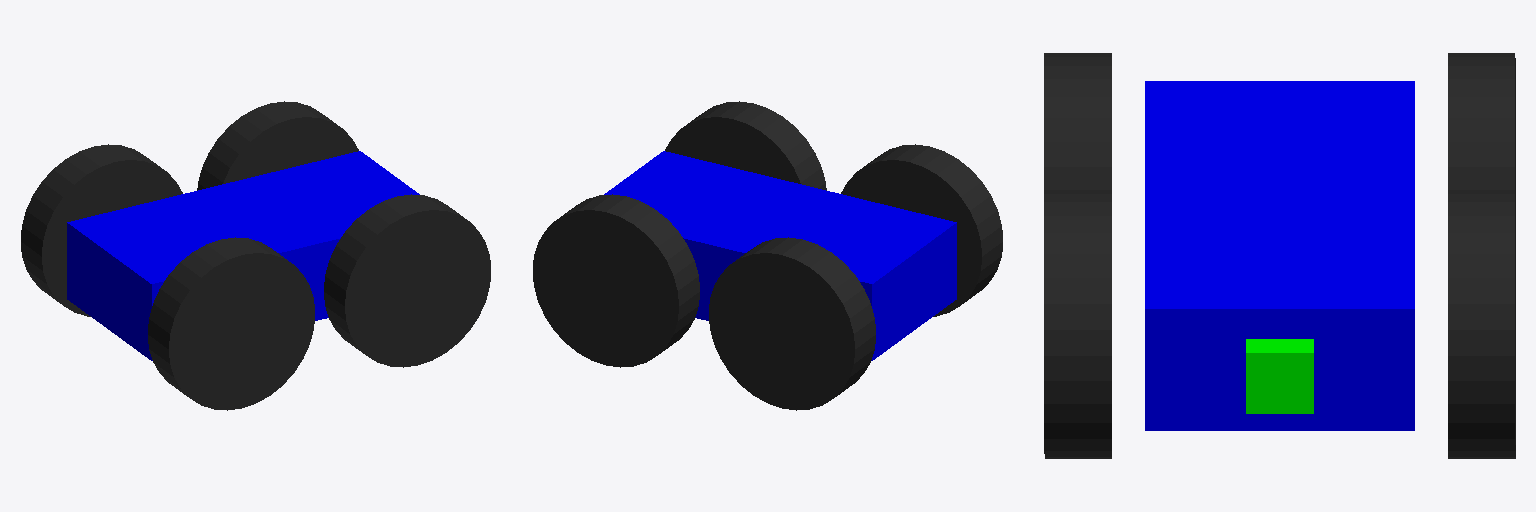
URDF robot description (bocbot):
<?xml version="1.0" ?>
<!-- =================================================================================== -->
<!-- |    This document was autogenerated by xacro from src/robot_gazebo/xacro/bocbot.xacro | -->
<!-- |    EDITING THIS FILE BY HAND IS NOT RECOMMENDED                                 | -->
<!-- =================================================================================== -->
<robot name="bocbot">
  <!-- ****************************************************** diffbot Robot ************************************************************  -->
  <!-- [author]                                                                                                                  -->
  <!-- March 2022                                                                                                                         -->
  <!-- *********************************************************************************************************************************  -->
  <!-- ****************************************************** Parameters ***************************************************************  -->
  <!-- ****************************************************** Includes *****************************************************************  -->
  <material name="red">
    <color rgba="1.0 0.0 0.0 1.0"/>
  </material>
  <material name="green">
    <color rgba="0.0 1.0 0.0 1.0"/>
  </material>
  <material name="blue">
    <color rgba="0.0 0.0 1.0 1.0"/>
  </material>
  <material name="black">
    <color rgba="0.3 0.3 0.3 1.0"/>
  </material>
  <material name="white">
    <color rgba="1.0 1.0 1.0 1.0"/>
  </material>
  <material name="grey">
    <color rgba="0.2 0.2 0.2 1.0"/>
  </material>
  <material name="orange">
    <color rgba="1.0 0.4235294117647059 0.0392156862745098 1.0"/>
  </material>
  <material name="brown">
    <color rgba="0.8705882352941177 0.8117647058823529 0.7647058823529411 1.0"/>
  </material>
  <material name="yellow">
    <color rgba="1.0 1.0 0.0 1.0"/>
  </material>
  <gazebo reference="chassis">
    <material>Gazebo/Blue</material>
  </gazebo>
  <gazebo reference="front_left_wheel">
    <material>Gazebo/Black</material>
  </gazebo>
  <gazebo reference="back_left_wheel">
    <material>Gazebo/Black</material>
  </gazebo>
  <gazebo reference="front_right_wheel">
    <material>Gazebo/Black</material>
  </gazebo>
  <gazebo reference="back_right_wheel">
    <material>Gazebo/Black</material>
  </gazebo>
  <gazebo reference="camera">
    <material>Gazebo/Red</material>
  </gazebo>
  <gazebo reference="hokuyo">
    <material>Gazebo/Black</material>
  </gazebo>
  <!--skid_steer_drive_controller-->
  <gazebo>
    <plugin filename="libgazebo_ros_diff_drive.so" name="skid_steer_drive_controller">
      <ros>
        <namespace>/bocbot</namespace>
        <argument>/cmd_vel:=mr_cme_vel</argument>
        <argument>/odom:=odom</argument>
      </ros>
      <update_rate>100.0</update_rate>
      <num_wheel_pairs>2</num_wheel_pairs>
      <odometry_frame>odom</odometry_frame>
      <left_joint>front_left_wheel_joint</left_joint>
      <left_joint>back_left_wheel_joint</left_joint>
      <wheel_separation>0.4</wheel_separation>
      <wheel_diameter>0.2</wheel_diameter>
      <right_joint>front_right_wheel_joint</right_joint>
      <right_joint>back_right_wheel_joint</right_joint>
      <wheel_separation>0.4</wheel_separation>
      <wheel_diameter>0.2</wheel_diameter>
      <robot_base_frame>robot_footprint</robot_base_frame>
      <max_wheel_torque>20</max_wheel_torque>
      <publish_odom>true</publish_odom>
      <publish_odom_tf>true</publish_odom_tf>
      <publish_wheel_tf>true</publish_wheel_tf>
      <odometry_source>world</odometry_source>
    </plugin>
  </gazebo>
  <!-- camera -->
  <gazebo reference="camera">
    <sensor name="camera_sensor" type="camera">
      <update_rate>30.0</update_rate>
      <always_on>1</always_on>
      <camera name="camera">
        <horizontal_fov>1.3962634</horizontal_fov>
        <image>
          <width>800</width>
          <height>800</height>
          <format>R8G8B8</format>
        </image>
        <clip>
          <near>0.02</near>
          <far>300</far>
        </clip>
        <distortion>
          <k1>0.0</k1>
          <k2>0.0</k2>
          <k3>0.0</k3>
          <p1>0.0</p1>
          <p2>0.0</p2>
          <center>0.5 0.5</center>
        </distortion>
      </camera>
      <plugin filename="libgazebo_ros_camera.so" name="camera_controller">
        <ros>
          <namespace>/bocbot</namespace>
          <argument>camera/image_raw:=/bocbot/camera/image</argument>
          <argument>camera/camera_info:=/bocbot/camera/image/camera_info</argument>
        </ros>
        <camera_name>camera</camera_name>
        <frame_name>camera</frame_name>
        <hack_baseline>0.07</hack_baseline>
      </plugin>
    </sensor>
  </gazebo>
  <!-- hokuyo -->
  <gazebo reference="hokuyo">
    <sensor name="head_hokuyo_sensor" type="ray">
      <pose>0 0 0 0 0 0</pose>
      <visualize>false</visualize>
      <update_rate>40</update_rate>
      <ray>
        <scan>
          <horizontal>
            <samples>720</samples>
            <resolution>1</resolution>
            <min_angle>-1.570796</min_angle>
            <max_angle>1.570796</max_angle>
          </horizontal>
        </scan>
        <range>
          <min>0.10</min>
          <max>30.0</max>
          <resolution>0.01</resolution>
        </range>
        <noise>
          <type>gaussian</type>
          <!-- Noise parameters based on published spec for Hokuyo laser
                achieving "+-30mm" accuracy at range < 10m.  A mean of 0.0m and
                stddev of 0.01m will put 99.7% of samples within 0.03m of the true
                reading. -->
          <mean>0.0</mean>
          <stddev>0.01</stddev>
        </noise>
      </ray>
      <update_rate>30</update_rate>
      <plugin filename="libgazebo_ros_ray_sensor.so" name="gazebo_ros_head_hokuyo_controller">
        <ros>
          <namespace>/bocbot</namespace>
          <argument>~/out:=scan</argument>
        </ros>
        <output_type>sensor_msgs/LaserScan</output_type>
      </plugin>
    </sensor>
  </gazebo>
  <!-- Gazebo                                     -->
  <!-- ****************************************************** Base Footprint ***********************************************************  -->
  <link name="robot_footprint"/>
  <joint name="robot_footprint_joint" type="fixed">
    <origin rpy="0 0 0" xyz="0 0 0"/>
    <parent link="robot_footprint"/>
    <child link="chassis"/>
  </joint>
  <link name="chassis">
    <pose>0 0 0.1 0 0 0</pose>
    <inertial>
      <mass value="15.0"/>
      <origin rpy=" 0 0 0" xyz="0.0 0 0"/>
      <inertia ixx="0.1" ixy="0" ixz="0" iyy="0.1" iyz="0" izz="0.1"/>
    </inertial>
    <collision name="collision">
      <origin rpy=" 0 0 0" xyz="0 0 0"/>
      <geometry>
        <box size=".4 .2 .1"/>
      </geometry>
    </collision>
    <visual name="chassis_visual">
      <origin rpy=" 0 0 0" xyz="0 0 0"/>
      <geometry>
        <box size=".4 .2 .1"/>
      </geometry>
      <material name="blue"/>
    </visual>
  </link>
  <link name="front_left_wheel">
    <inertial>
      <mass value="5.0"/>
      <origin rpy=" 0 1.5707 1.5707" xyz="0.0 0 0"/>
      <inertia ixx="0.1" ixy="0" ixz="0" iyy="0.1" iyz="0" izz="0.1"/>
    </inertial>
    <visual>
      <origin rpy=" 0 1.5707 1.5707" xyz="0.0 0 0"/>
      <geometry>
        <cylinder length="0.05" radius="0.1"/>
      </geometry>
      <material name="grey"/>
    </visual>
    <collision>
      <origin rpy=" 0 1.5707 1.5707" xyz="0.0 0 0"/>
      <geometry>
        <cylinder length="0.05" radius="0.1"/>
      </geometry>
    </collision>
  </link>
  <link name="back_left_wheel">
    <inertial>
      <mass value="5.0"/>
      <origin rpy=" 0 1.5707 1.5707" xyz="0.0 0 0"/>
      <inertia ixx="0.1" ixy="0" ixz="0" iyy="0.1" iyz="0" izz="0.1"/>
    </inertial>
    <visual>
      <origin rpy=" 0 1.5707 1.5707" xyz="0.0 0 0"/>
      <geometry>
        <cylinder length="0.05" radius="0.1"/>
      </geometry>
      <material name="grey"/>
    </visual>
    <collision>
      <origin rpy=" 0 1.5707 1.5707" xyz="0.0 0 0"/>
      <geometry>
        <cylinder length="0.05" radius="0.1"/>
      </geometry>
    </collision>
  </link>
  <link name="front_right_wheel">
    <inertial>
      <mass value="5.0"/>
      <origin rpy=" 0 1.5707 1.5707" xyz="0.0 0 0"/>
      <inertia ixx="0.1" ixy="0" ixz="0" iyy="0.1" iyz="0" izz="0.1"/>
    </inertial>
    <visual>
      <origin rpy=" 0 1.5707 1.5707" xyz="0.0 0 0"/>
      <geometry>
        <cylinder length="0.05" radius="0.1"/>
      </geometry>
      <material name="grey"/>
    </visual>
    <collision>
      <origin rpy=" 0 1.5707 1.5707" xyz="0.0 0 0"/>
      <geometry>
        <cylinder length="0.05" radius="0.1"/>
      </geometry>
    </collision>
  </link>
  <link name="back_right_wheel">
    <inertial>
      <mass value="5.0"/>
      <origin rpy=" 0 1.5707 1.5707" xyz="0.0 0 0"/>
      <inertia ixx="0.1" ixy="0" ixz="0" iyy="0.1" iyz="0" izz="0.1"/>
    </inertial>
    <visual>
      <origin rpy=" 0 1.5707 1.5707" xyz="0.0 0 0"/>
      <geometry>
        <cylinder length="0.05" radius="0.1"/>
      </geometry>
      <material name="grey"/>
    </visual>
    <collision>
      <origin rpy=" 0 1.5707 1.5707" xyz="0.0 0 0"/>
      <geometry>
        <cylinder length="0.05" radius="0.1"/>
      </geometry>
    </collision>
  </link>
  <link name="camera">
    <inertial>
      <mass value="0.1"/>
      <origin rpy=" 0 0 0" xyz="0.05 0.05 0.05"/>
      <inertia ixx="1e-6" ixy="0" ixz="0" iyy="1e-6" iyz="0" izz="1e-6"/>
    </inertial>
    <visual name="camera_visual">
      <origin rpy="0 0 0" xyz="0 0 0"/>
      <geometry>
        <box size="0.05 0.05 0.05"/>
      </geometry>
      <material name="green"/>
    </visual>
    <collision name="camera_colision">
      <origin rpy="0 0 0" xyz="0 0 0"/>
      <geometry>
        <box size="0.05 0.05 0.05"/>
      </geometry>
    </collision>
  </link>
  <link name="hokuyo">
    <inertial>
      <mass value="1e-5"/>
      <origin rpy=" 0 0 0" xyz="0 0 0"/>
      <inertia ixx="1e-6" ixy="0" ixz="0" iyy="1e-6" iyz="0" izz="1e-6"/>
    </inertial>
    <visual name="hokuyo_visual">
      <origin rpy="0 0 0" xyz="0 0 0"/>
      <geometry>
        <mesh filename="package://robot_gazebo/meshes/bocbot/hokuyo.dae"/>
        <!-- <box size="0.05 0.05 0.05"/> -->
      </geometry>
      <material name="red"/>
    </visual>
    <collision name="hokuyo_colision">
      <origin rpy="0 0 0" xyz="0 0 0"/>
      <geometry>
        <box size="0.1 0.1 0.1"/>
      </geometry>
    </collision>
  </link>
  <joint name="front_left_wheel_joint" type="continuous">
    <origin rpy="0 0 0" xyz="0.12 0.15 0"/>
    <child link="front_left_wheel"/>
    <parent link="chassis"/>
    <axis rpy="0 0 0" xyz="0 1 0"/>
    <limit effort="10000" velocity="1000"/>
    <dynamics damping="1.0" friction="1.0"/>
  </joint>
  <joint name="front_right_wheel_joint" type="continuous">
    <origin rpy="0 0 0" xyz="0.12 -0.15 0"/>
    <child link="front_right_wheel"/>
    <parent link="chassis"/>
    <axis rpy="0 0 0" xyz="0 1 0"/>
    <limit effort="10000" velocity="1000"/>
    <dynamics damping="1.0" friction="1.0"/>
  </joint>
  <joint name="back_left_wheel_joint" type="continuous">
    <origin rpy="0 0 0" xyz="-0.12 0.15 0"/>
    <child link="back_left_wheel"/>
    <parent link="chassis"/>
    <axis rpy="0 0 0" xyz="0 1 0"/>
    <limit effort="10000" velocity="1000"/>
    <dynamics damping="1.0" friction="1.0"/>
  </joint>
  <joint name="back_right_wheel_joint" type="continuous">
    <origin rpy="0 0 0" xyz="-0.12 -0.15 0"/>
    <child link="back_right_wheel"/>
    <parent link="chassis"/>
    <axis rpy="0 0 0" xyz="0 1 0"/>
    <limit effort="10000" velocity="1000"/>
    <dynamics damping="1.0" friction="1.0"/>
  </joint>
  <joint name="camera_joint" type="fixed">
    <origin rpy="0 0 0" xyz="0.2 0 0"/>
    <child link="camera"/>
    <parent link="chassis"/>
    <axis rpy="0 0 0" xyz="0 1 0"/>
  </joint>
  <joint name="hokuyo_joint" type="fixed">
    <origin rpy="0 0 0" xyz="0.15 0 0.1"/>
    <child link="hokuyo"/>
    <parent link="chassis"/>
    <axis rpy="0 0 0" xyz="0 1 0"/>
  </joint>
</robot>

--- What the picture shows (computed from the rendered views, not written in the file) ---
Views: 3 orthographic renders of the robot side by side, from view 1: azimuth 30°, elevation 25°; view 2: azimuth 150°, elevation 25°; view 3: azimuth 270°, elevation 25°.
Robot: bocbot — 8 links, 7 joints (4 continuous, 3 fixed); root link robot_footprint; default pose: every joint at zero.
Visible links, largest first — view 1: chassis, back_right_wheel, front_right_wheel, back_left_wheel, front_left_wheel; view 2: chassis, back_left_wheel, front_left_wheel, back_right_wheel, front_right_wheel; view 3: chassis, front_left_wheel, front_right_wheel, back_left_wheel, back_right_wheel, camera.
Link boxes in pixels (box(x1,y1,x2,y2)): chassis: box(67, 151, 419, 360); back_right_wheel: box(148, 237, 314, 410); front_right_wheel: box(324, 194, 490, 367); back_left_wheel: box(21, 144, 182, 316); front_left_wheel: box(197, 101, 358, 190); chassis: box(604, 151, 956, 360); back_left_wheel: box(709, 237, 875, 410); front_left_wheel: box(533, 194, 699, 367); back_right_wheel: box(841, 144, 1002, 316); front_right_wheel: box(665, 101, 826, 190); chassis: box(1145, 81, 1414, 430); front_left_wheel: box(1448, 190, 1515, 458); front_right_wheel: box(1044, 190, 1111, 458); back_left_wheel: box(1448, 53, 1515, 194); back_right_wheel: box(1044, 53, 1111, 189); camera: box(1246, 339, 1313, 413).
Bounding box of the posed robot: 0.445 × 0.35 × 0.2 m (x, y, z).
0 mesh visuals loaded from 1 distinct referenced files (none loaded); not drawn: 1 (reference not matched to a file when rendering).
